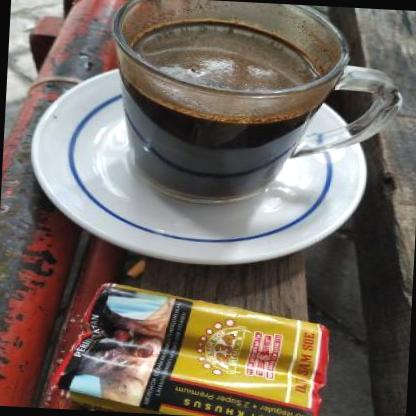objects: (50, 281, 330, 416)
